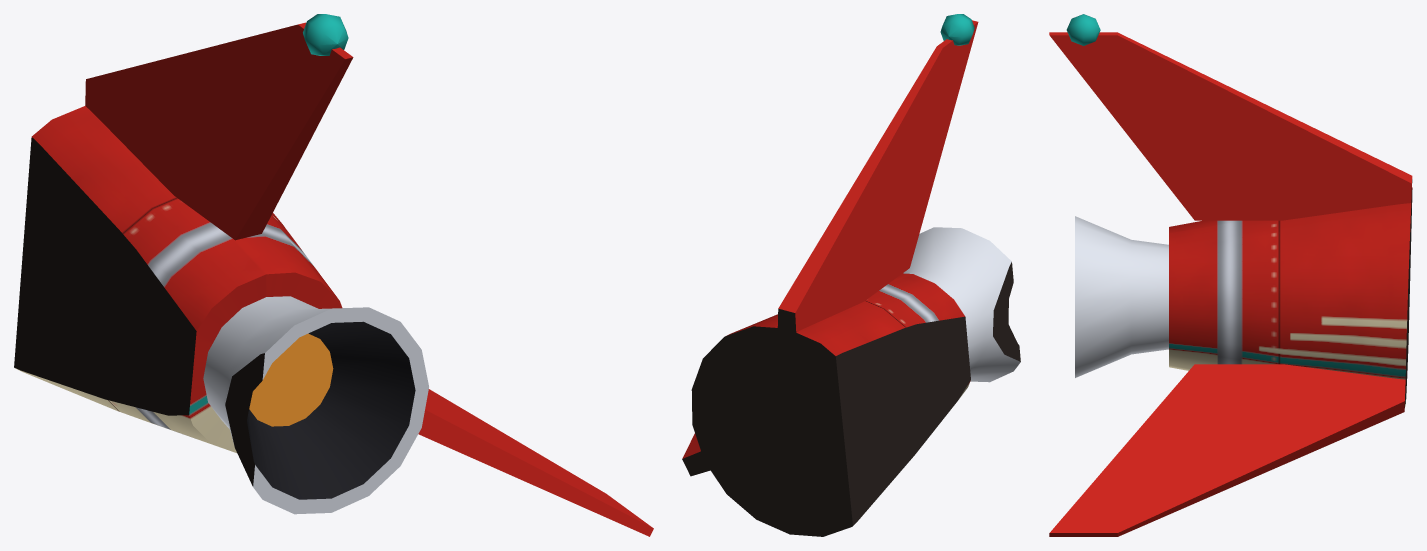
The model's file is comet_debris4.obj.
3 views of the same model, side by side, from view 1: azimuth 30°, elevation 25°; view 2: azimuth 150°, elevation 25°; view 3: azimuth 270°, elevation 25° (orthographic). The views are drawn at different scales.
Parts seen in each view (by area): view 1: hull, bell, fin0, fin120, fin_tip; view 2: hull, fin0, bell, fin120, fin_tip; view 3: hull, fin0, fin120, bell, fin_tip.
Boxes of the visible parts, x1=… form: hull: x1=14, y1=106, x2=342, y2=452; bell: x1=203, y1=296, x2=428, y2=514; fin0: x1=85, y1=22, x2=353, y2=240; fin120: x1=418, y1=389, x2=653, y2=536; fin_tip: x1=303, y1=14, x2=348, y2=55; hull: x1=691, y1=273, x2=970, y2=536; fin0: x1=777, y1=20, x2=978, y2=349; bell: x1=903, y1=227, x2=1020, y2=382; fin120: x1=682, y1=433, x2=724, y2=476; fin_tip: x1=940, y1=14, x2=974, y2=45; hull: x1=1169, y1=187, x2=1412, y2=406; fin0: x1=1049, y1=32, x2=1412, y2=220; fin120: x1=1049, y1=364, x2=1406, y2=536; bell: x1=1075, y1=216, x2=1168, y2=377; fin_tip: x1=1066, y1=14, x2=1100, y2=45.
Size of the model in its own units: 3.8 by 5.38 by 4.25.
7 materials, 1 textured.
